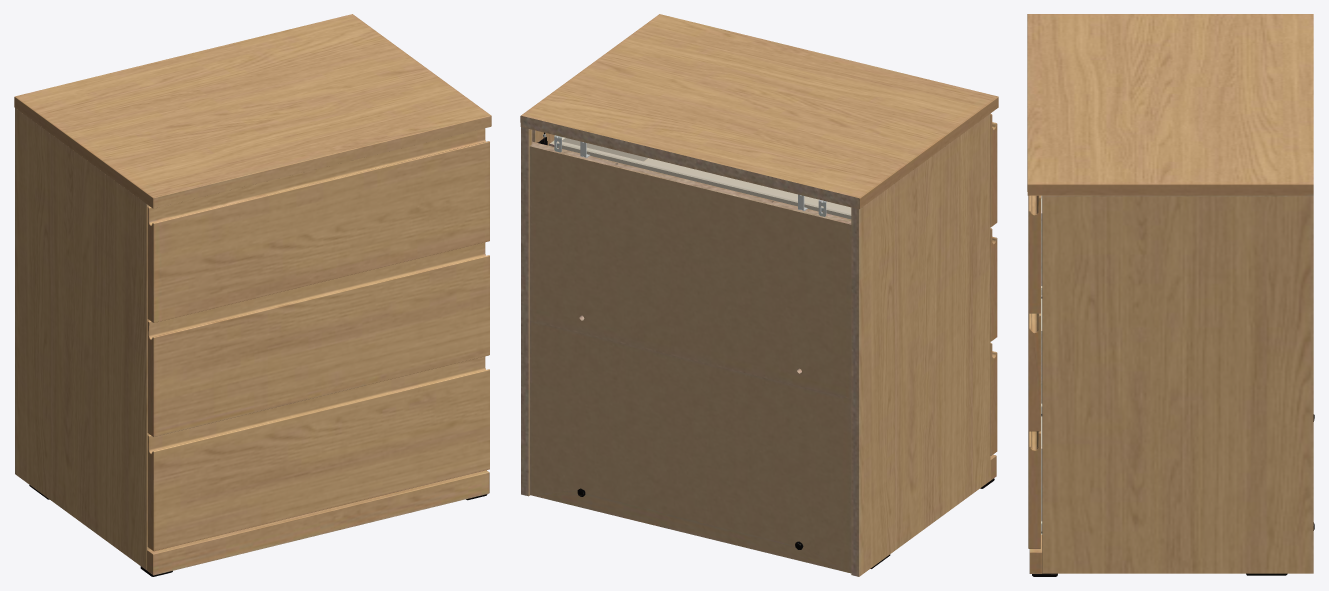
The model's file is storklinta_komoda_3_szuflady_70627531.glb.
The picture shows the model from 3 angles, left to right: view 1: azimuth 30°, elevation 25°; view 2: azimuth 150°, elevation 25°; view 3: azimuth 270°, elevation 25°; orthographic projection. The views are drawn at different scales.
Parts seen in each view (by area): view 1: storklinta_komoda_3_szuflady_70627531; view 2: storklinta_komoda_3_szuflady_70627531; view 3: storklinta_komoda_3_szuflady_70627531.
Part boxes in pixels (bbox=[...]): storklinta_komoda_3_szuflady_70627531: bbox=[14, 14, 491, 576]; storklinta_komoda_3_szuflady_70627531: bbox=[520, 14, 998, 576]; storklinta_komoda_3_szuflady_70627531: bbox=[1027, 14, 1314, 576].
Size of the model in its own units: 0.699 by 0.7525 by 0.4979.
Materials: 1 (1 with a texture image).
